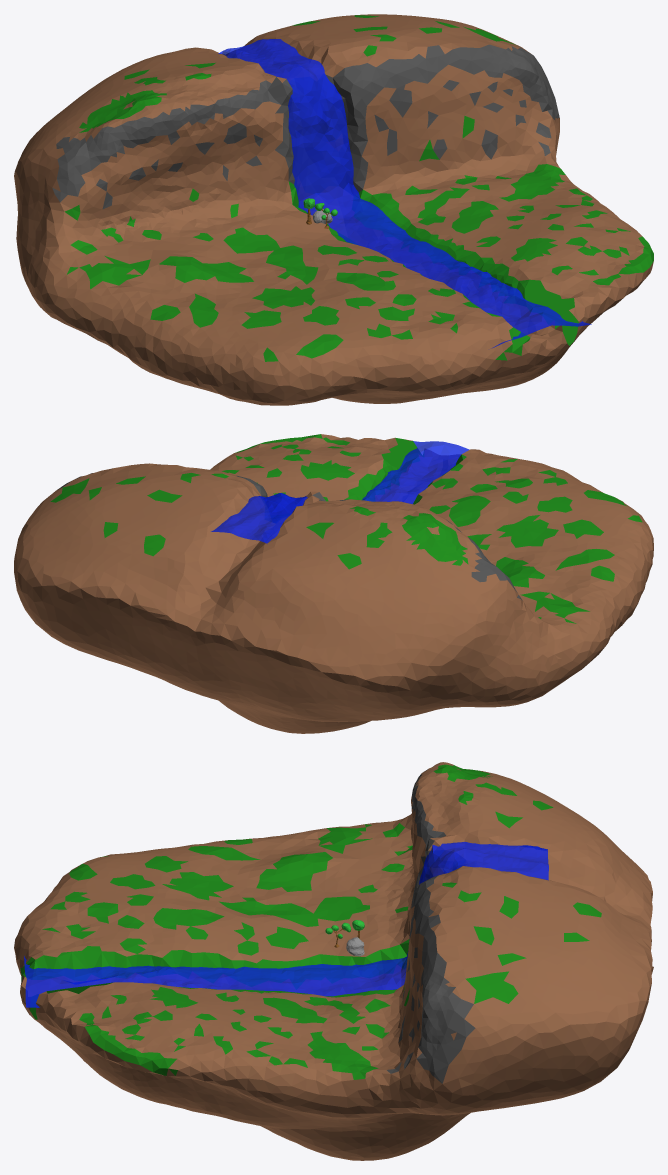
Rendered from LevelPack1Terrain.fbx.
3 views of the same model, one above another, from view 1: azimuth 30°, elevation 25°; view 2: azimuth 150°, elevation 25°; view 3: azimuth 270°, elevation 25° (orthographic). The views are drawn at different scales.
Visible parts, largest first — view 1: Ground, Water; view 2: Ground, Water; view 3: Ground, Water.
Part boxes in pixels (<box>): Ground: <box>14,14,653,405</box>; Water: <box>218,39,591,348</box>; Ground: <box>14,434,653,733</box>; Water: <box>211,441,469,543</box>; Ground: <box>14,762,653,1160</box>; Water: <box>24,841,548,1007</box>.
Bounding box in the file's own units: 57947 × 29691 × 58528.
